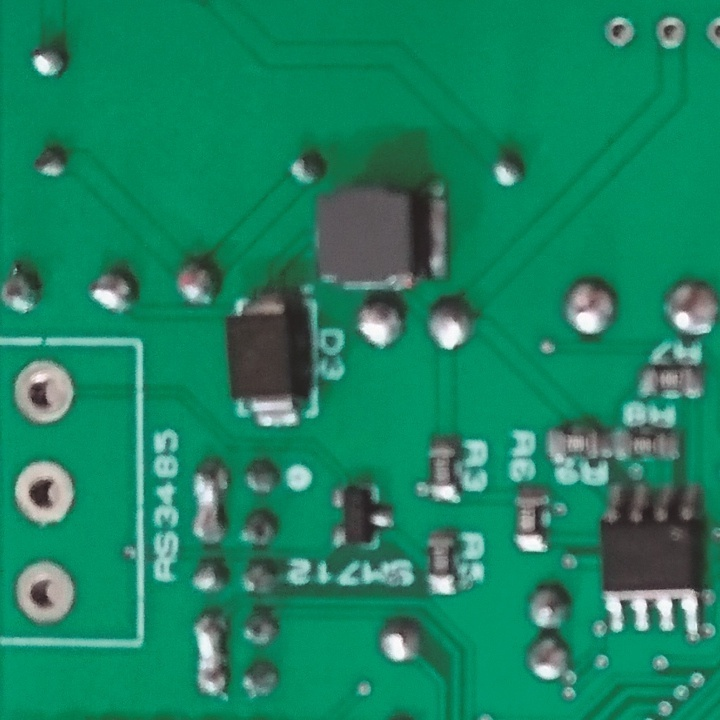F: (13, 559, 81, 628), (13, 458, 79, 528), (11, 365, 79, 428), (653, 14, 686, 50), (602, 18, 639, 48), (704, 13, 720, 52)
P: (190, 458, 231, 549), (192, 609, 232, 700)
